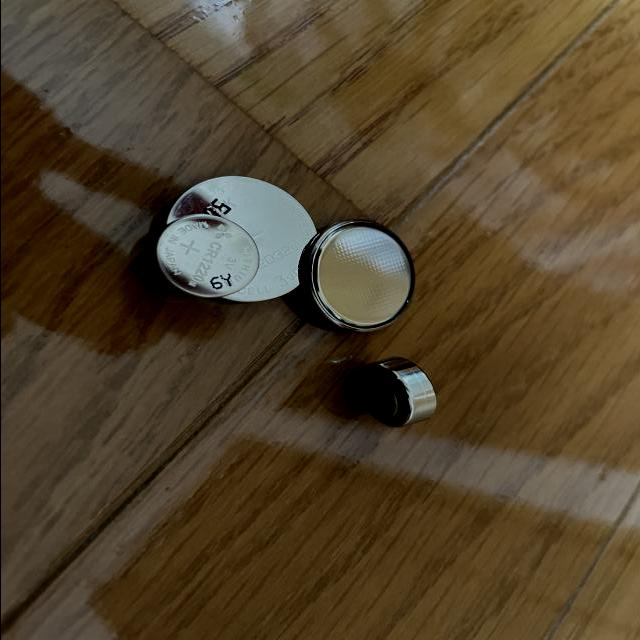COIN: (156, 175, 318, 305), (298, 218, 417, 333), (147, 213, 260, 300), (351, 354, 444, 429)
